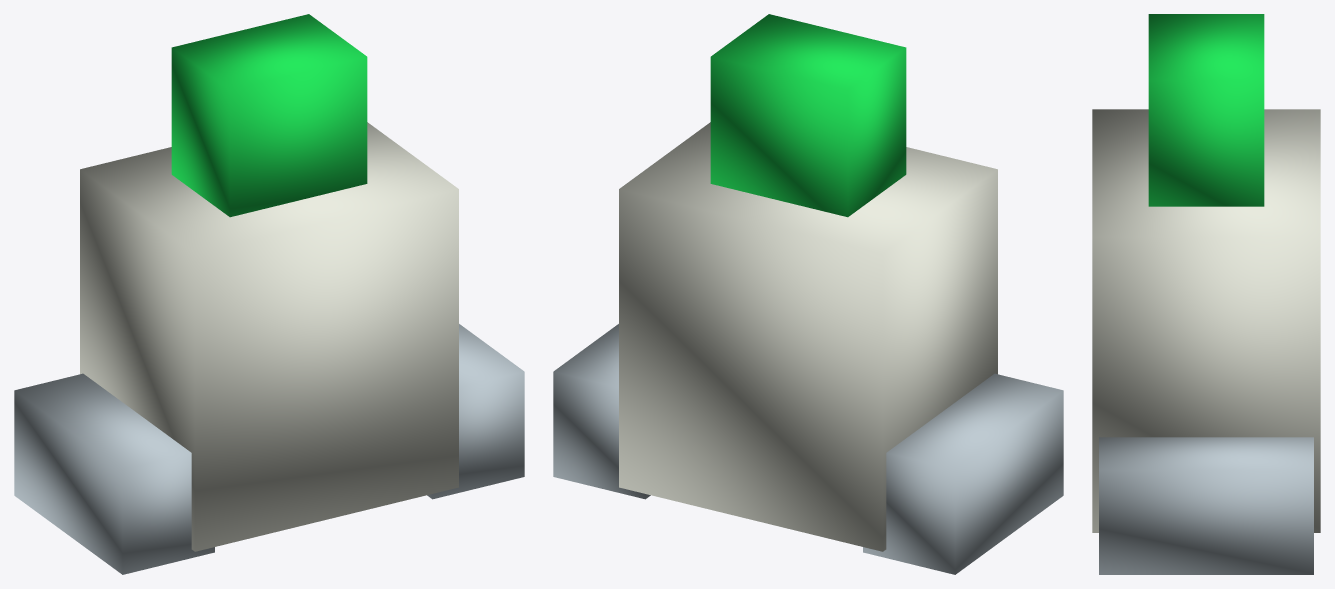
The model's file is 22_L94_LED1_PowerGreen.fbx.
3 renders of one model, left to right at view 1: azimuth 30°, elevation 25°; view 2: azimuth 150°, elevation 25°; view 3: azimuth 270°, elevation 25°, orthographic.
Visible parts, largest first — view 1: L94_PowerGreen_Part_0000, L94_PowerGreen_Part_0002, L94_PowerGreen_Part_0001; view 2: L94_PowerGreen_Part_0000, L94_PowerGreen_Part_0002, L94_PowerGreen_Part_0001; view 3: L94_PowerGreen_Part_0000, L94_PowerGreen_Part_0002, L94_PowerGreen_Part_0001.
Part boxes in pixels (bbox=[...]): L94_PowerGreen_Part_0000: bbox=[80, 122, 458, 551]; L94_PowerGreen_Part_0002: bbox=[14, 324, 524, 574]; L94_PowerGreen_Part_0001: bbox=[171, 14, 367, 217]; L94_PowerGreen_Part_0000: bbox=[619, 122, 997, 551]; L94_PowerGreen_Part_0002: bbox=[553, 324, 1063, 574]; L94_PowerGreen_Part_0001: bbox=[710, 14, 906, 217]; L94_PowerGreen_Part_0000: bbox=[1092, 109, 1320, 532]; L94_PowerGreen_Part_0002: bbox=[1099, 437, 1313, 574]; L94_PowerGreen_Part_0001: bbox=[1148, 14, 1264, 206].
Size of the model in its own units: 4.8 by 4.95 by 2.38.
